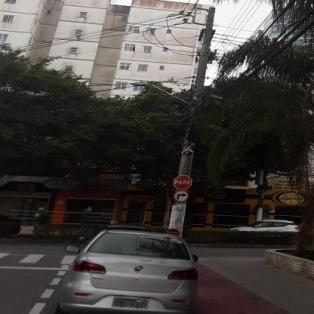Poste: (159, 2, 222, 234)
